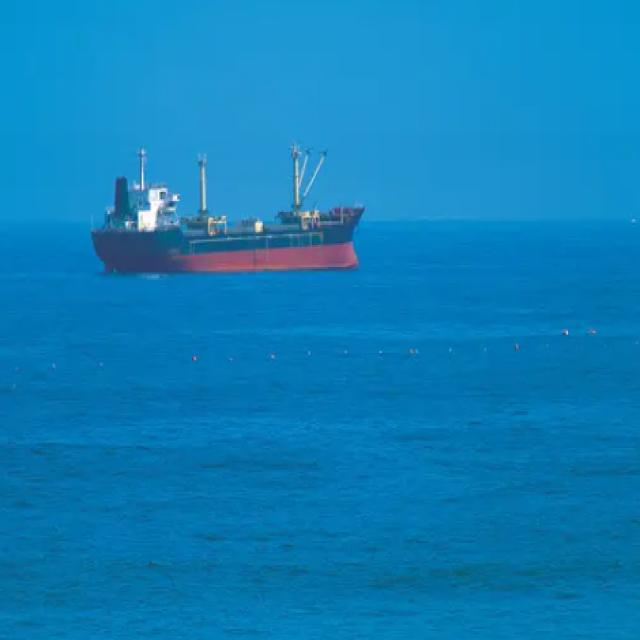cargoship: (87, 139, 370, 276)
